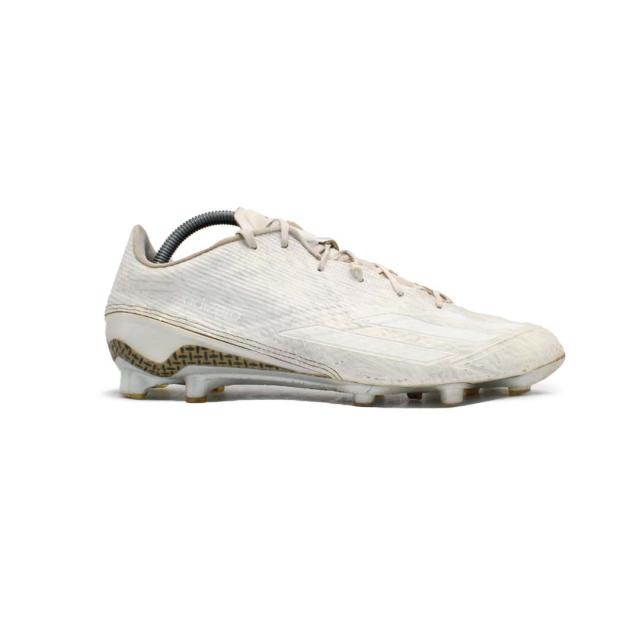heel: (103, 225, 172, 310)
midsole: (105, 309, 563, 408)
uppersole: (154, 209, 562, 387)
